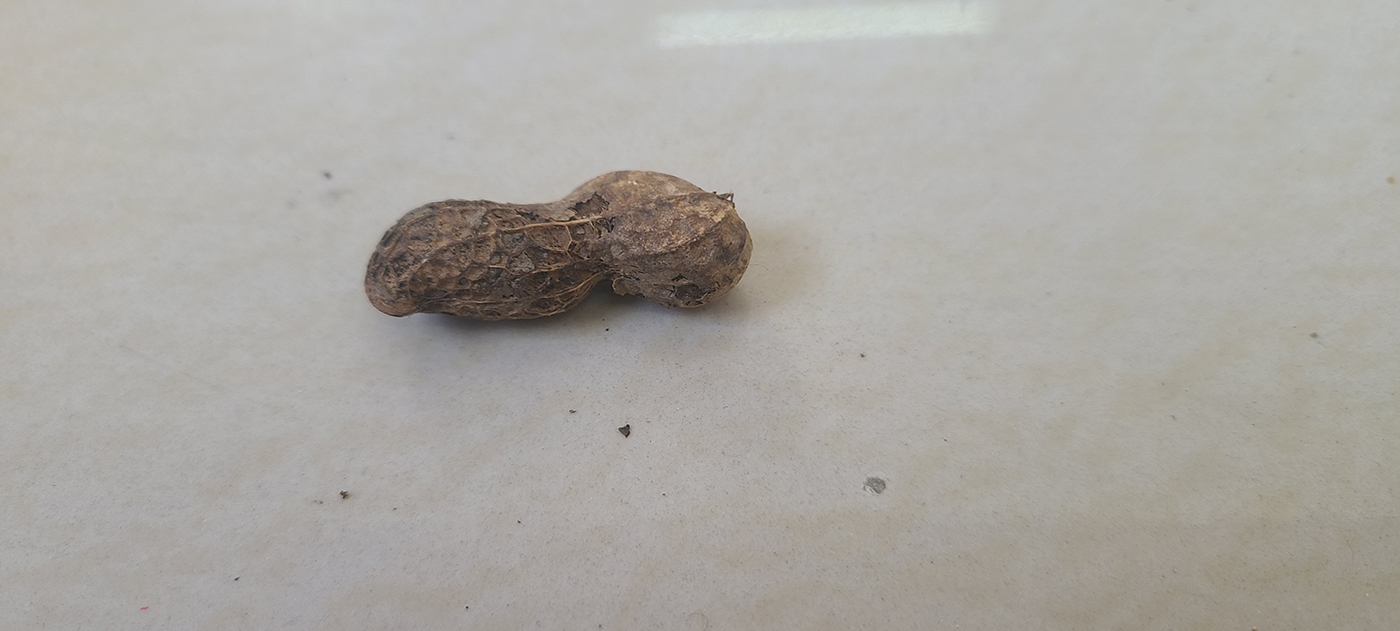l: (361, 166, 756, 324)
